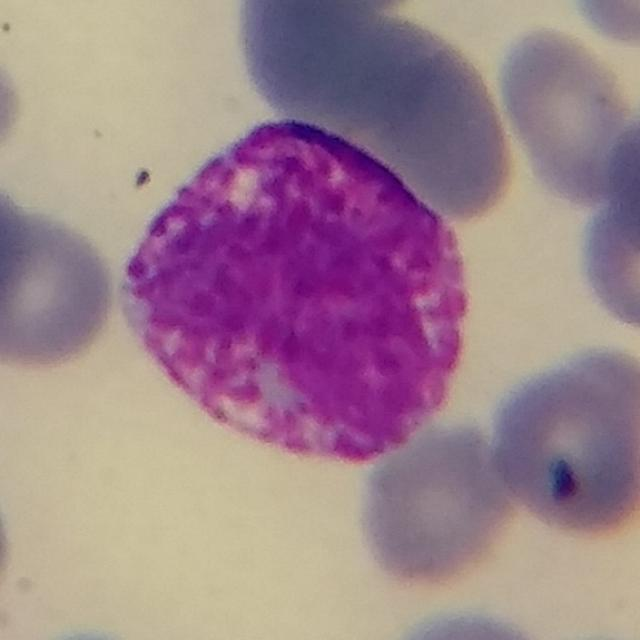Basophil: (98, 91, 506, 495)
RBC: (217, 0, 533, 229), (223, 0, 532, 228), (483, 340, 640, 544), (353, 418, 522, 596), (493, 20, 639, 210), (0, 198, 122, 375), (572, 132, 640, 344), (596, 91, 640, 278), (380, 602, 561, 640), (0, 169, 35, 317), (250, 0, 432, 24), (0, 32, 29, 177), (565, 0, 640, 50), (0, 455, 18, 629)
